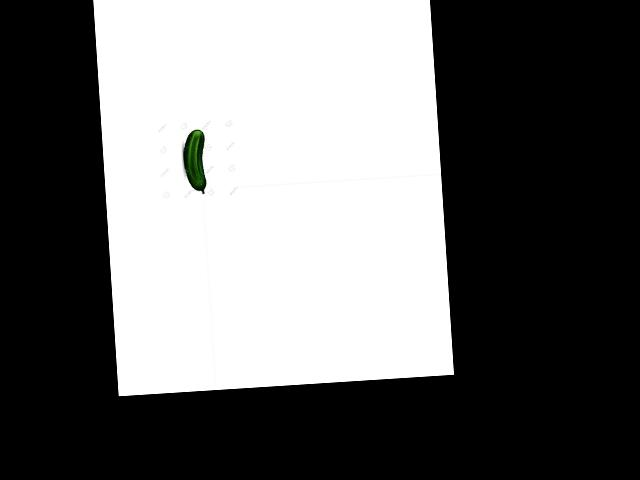cucumber: (181, 129, 207, 194)
